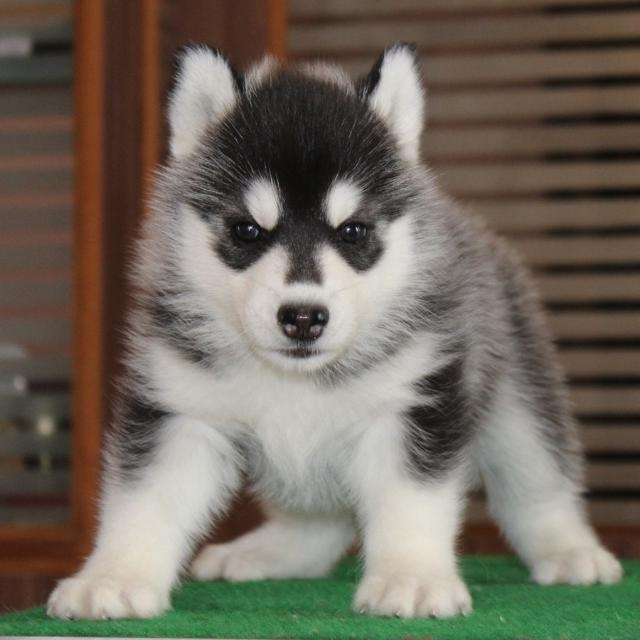dog: (53, 23, 549, 629)
